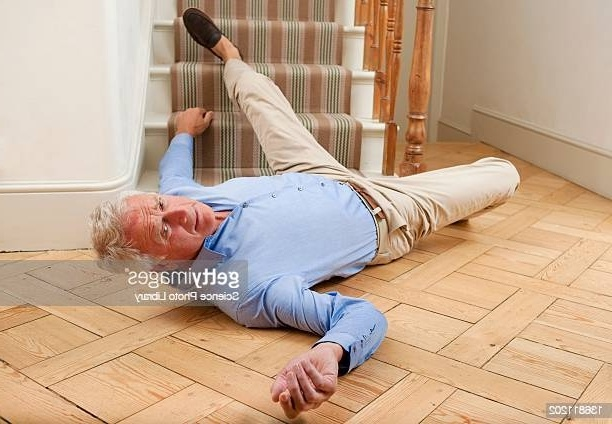fall: (73, 2, 528, 416)
